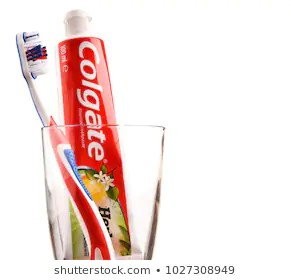toothbrush: (13, 23, 59, 166)
